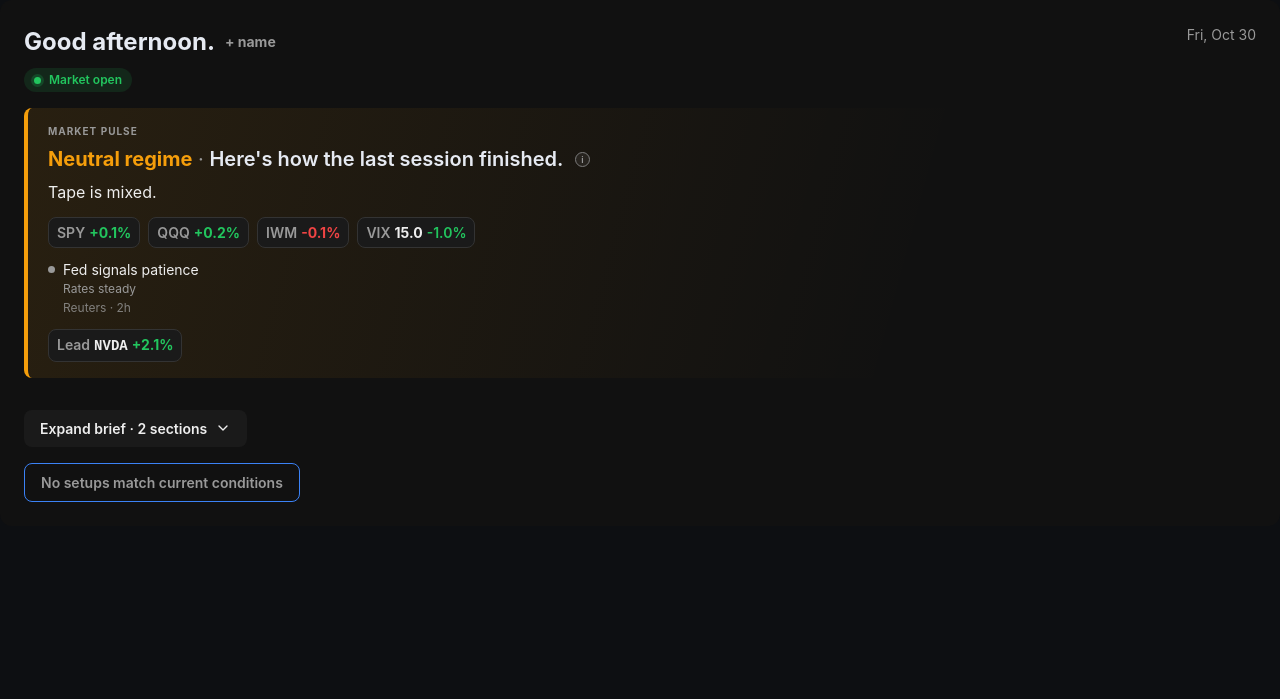
Test: MarketBrief scan mode (ADR-003 UX-D3) › shows the lead headline and one mover on scan, then the remaining feed when expanded
This screenshot has width=1280, height=699.
Expected: the element with test id "market-brief-scan-headline" shows "Fed signals patience", [63,261,199,278]
Expected: the element with test id "market-brief-scan-movers" shows "NVDA", [48,329,182,362]
Click the button with test id "market-brief-expand-toggle" at point(136, 428), box [24,410,247,447]
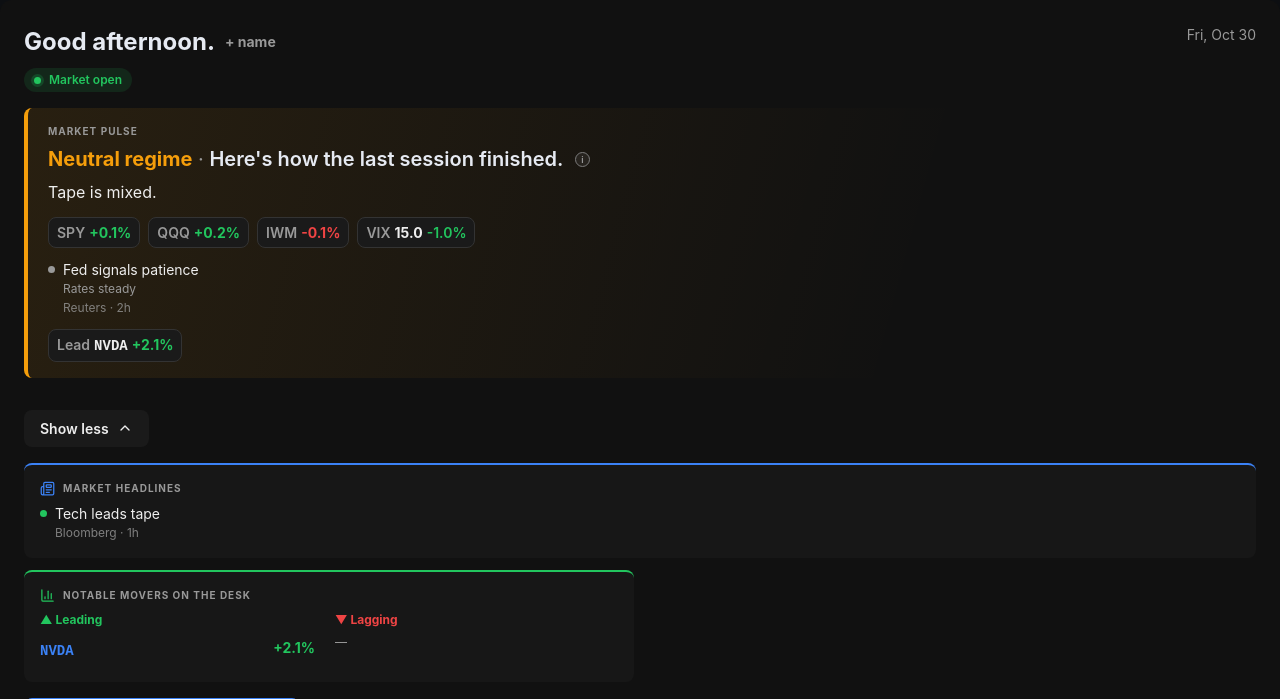
Result: the element with test id "market-brief-expanded" is shown at [24,463,1256,682]
Result: the element with test id "market-brief-headlines" shows "Tech leads tape" at [55,505,160,522]
Result: the text "Notable movers on the desk" is shown at [63,588,251,603]
